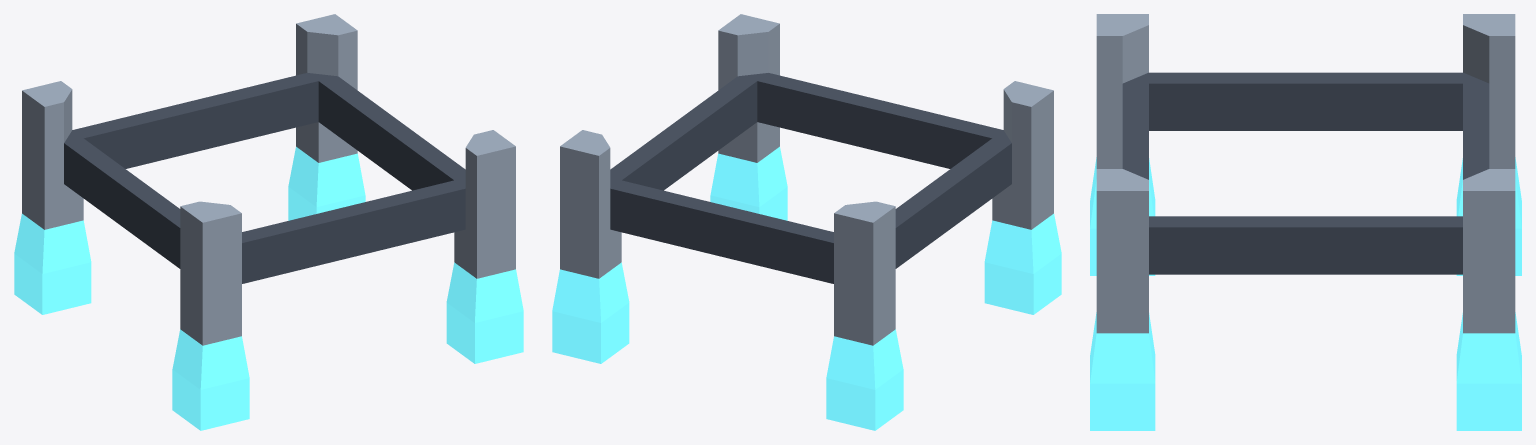
Rendered from supports_low.glb.
The picture shows the model from 3 angles, left to right: view 1: azimuth 30°, elevation 25°; view 2: azimuth 150°, elevation 25°; view 3: azimuth 270°, elevation 25°; orthographic projection. The views are drawn at different scales.
Visible parts, largest first — view 1: supports_low; view 2: supports_low; view 3: supports_low.
Part boxes in pixels (x1,y1,x2,y2): supports_low: (14, 14, 523, 430); supports_low: (552, 14, 1061, 430); supports_low: (1090, 14, 1521, 430).
Size of the model in its own units: 0.825 by 0.5 by 0.825.
